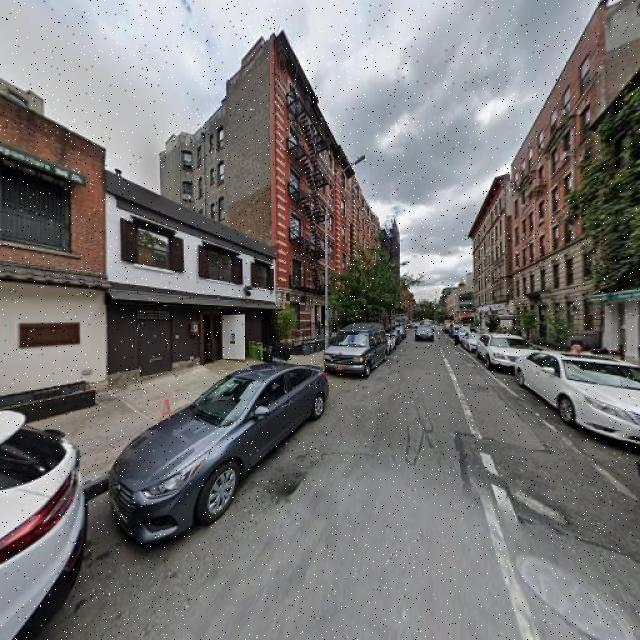Building: (514, 19, 640, 363), (112, 173, 275, 388), (1, 92, 107, 412), (278, 24, 353, 352), (482, 177, 509, 334)
